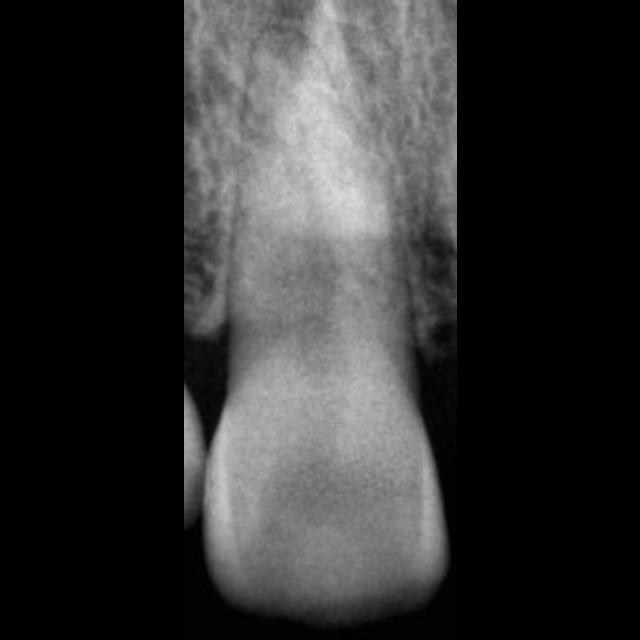tooth: (202, 24, 445, 618)
